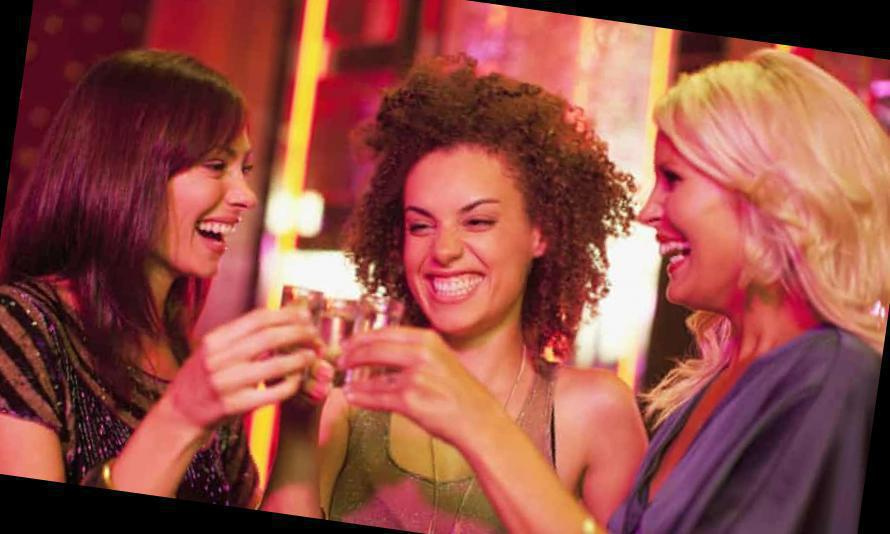Drunk: (398, 155, 515, 333), (633, 135, 748, 314), (167, 117, 263, 276)
